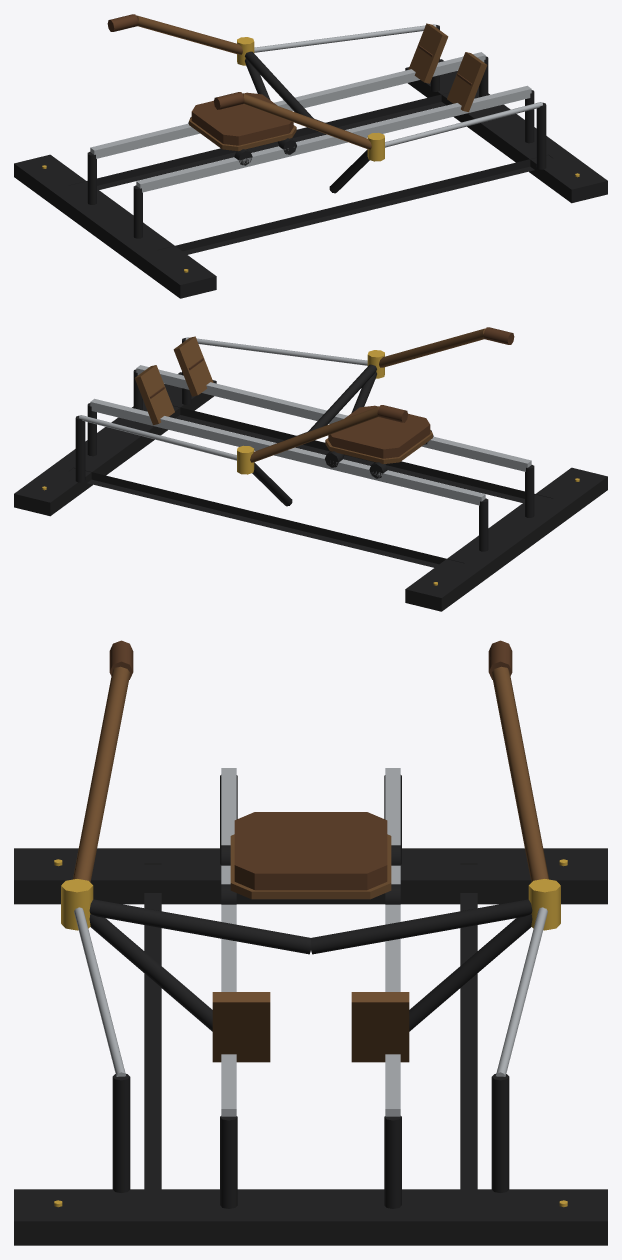
3 views of the same model, one above another, from view 1: azimuth 30°, elevation 25°; view 2: azimuth 150°, elevation 25°; view 3: azimuth 270°, elevation 25° (orthographic). The views are drawn at different scales.
Visible parts, largest first — view 1: parametric-variant-machine-1st-pub-616937f2bd109440449d; view 2: parametric-variant-machine-1st-pub-616937f2bd109440449d; view 3: parametric-variant-machine-1st-pub-616937f2bd109440449d.
Boxes of the visible parts, x1,y1,x2,y2 form: parametric-variant-machine-1st-pub-616937f2bd109440449d: [14, 14, 607, 298]; parametric-variant-machine-1st-pub-616937f2bd109440449d: [14, 327, 607, 611]; parametric-variant-machine-1st-pub-616937f2bd109440449d: [14, 640, 607, 1245].
Bounding box in the file's own units: 2.3 × 0.837 × 1.55.
